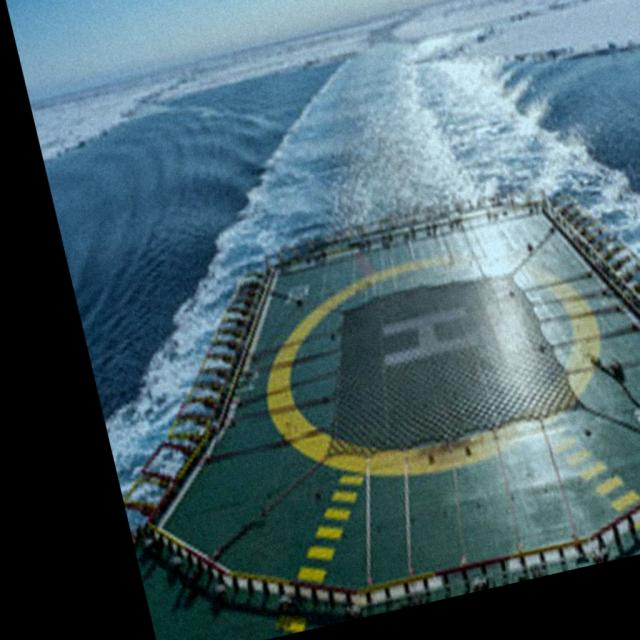helipad: (259, 251, 603, 477)
